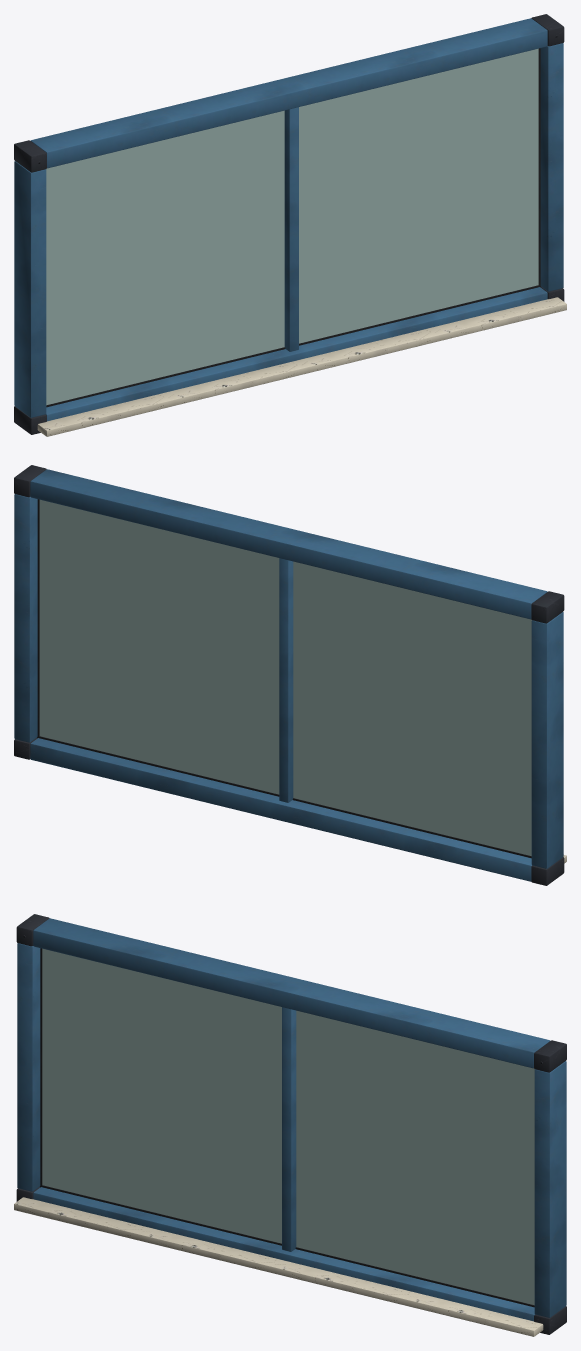
File: window_large.glb
The picture shows the model from 3 angles, top to bottom: view 1: azimuth 30°, elevation 25°; view 2: azimuth 150°, elevation 25°; view 3: azimuth 330°, elevation 25°; orthographic projection.
Visible parts, largest first — view 1: WindowLargeMesh; view 2: WindowLargeMesh; view 3: WindowLargeMesh.
Part boxes in pixels (left/top/right/bottom): WindowLargeMesh: left=14, top=14, right=566, bottom=436; WindowLargeMesh: left=14, top=465, right=566, bottom=885; WindowLargeMesh: left=14, top=914, right=566, bottom=1336.
Size of the model in its own units: 2 by 1 by 0.175.
6 materials, 4 textured.
